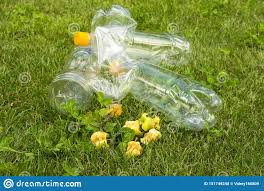plastic_bottle: (108, 61, 225, 129), (72, 28, 194, 72)
